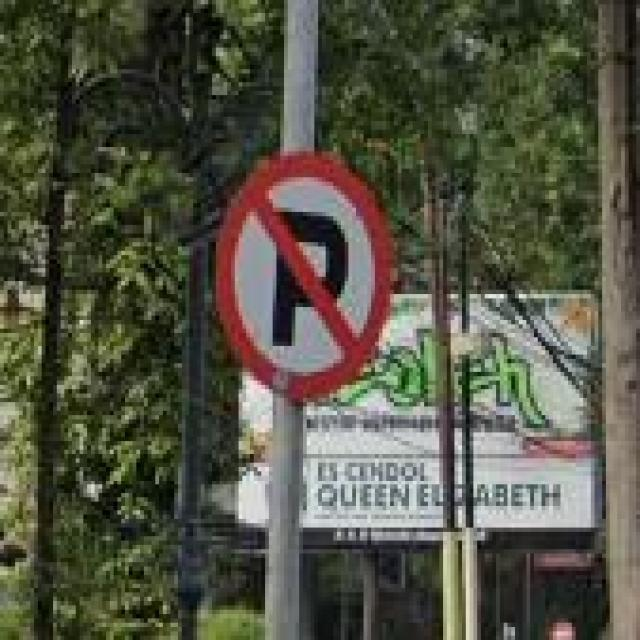traffic sign: (216, 156, 390, 402)
